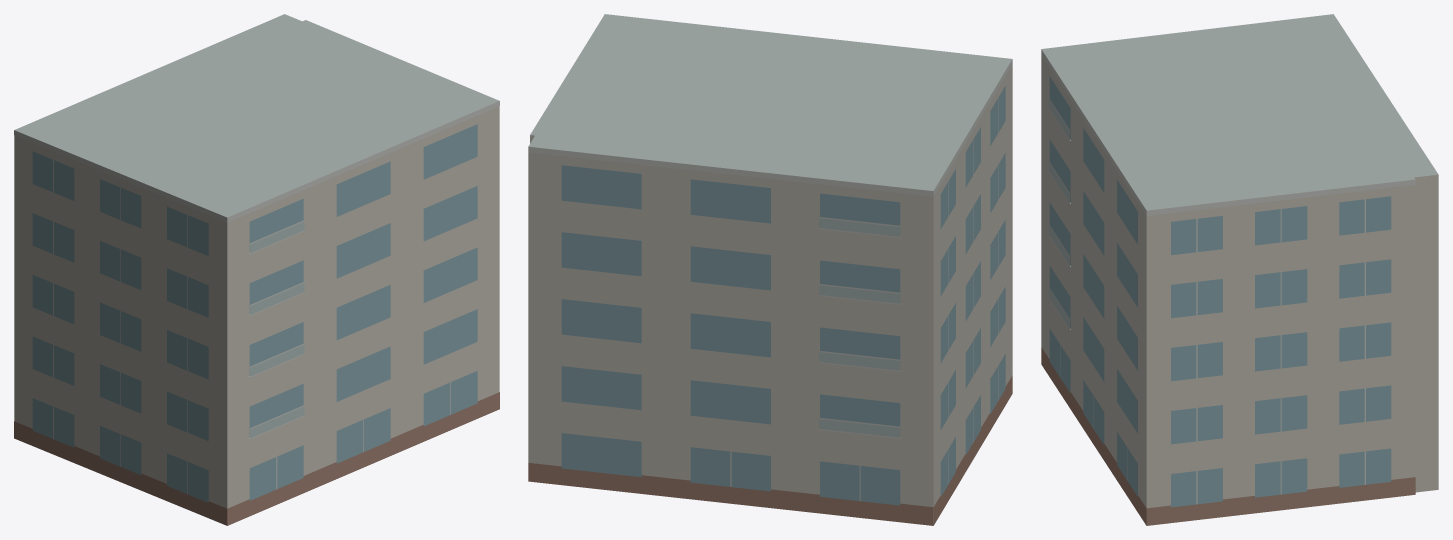
Rendered from survey-upis-32654849.glb.
The picture shows the model from 3 angles, left to right: view 1: azimuth 30°, elevation 25°; view 2: azimuth 150°, elevation 25°; view 3: azimuth 270°, elevation 25°; orthographic projection. The views are drawn at different scales.
Visible parts, largest first — view 1: survey-upis-32654849.tmp; view 2: survey-upis-32654849.tmp; view 3: survey-upis-32654849.tmp.
Part boxes in pixels (x1,y1,x2,y2): survey-upis-32654849.tmp: [14, 14, 499, 525]; survey-upis-32654849.tmp: [528, 14, 1012, 525]; survey-upis-32654849.tmp: [1041, 14, 1438, 525].
Bounding box in the file's own units: 19.28 × 14.4 × 16.46.
